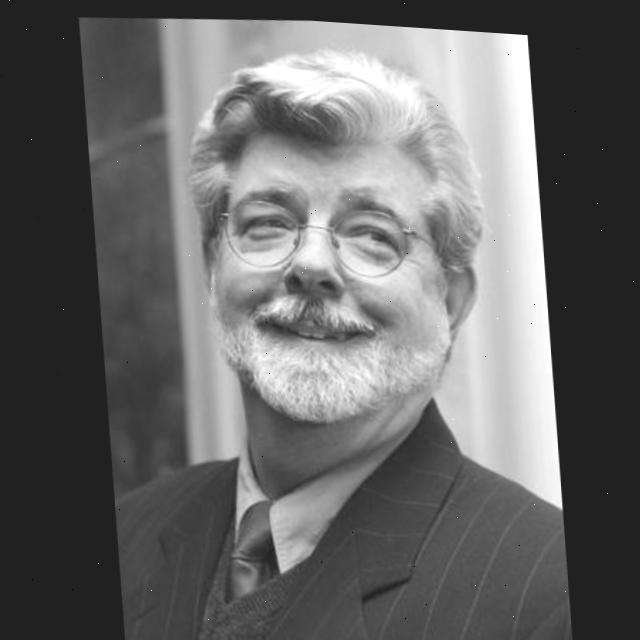face: (182, 104, 487, 425)
